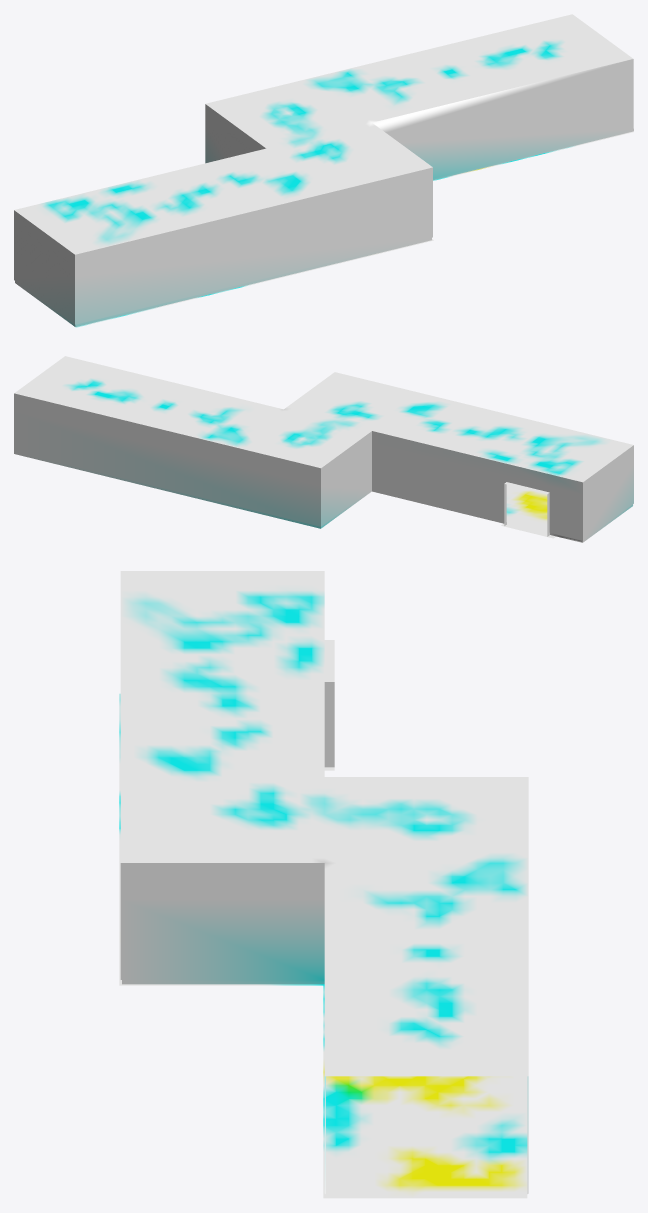
File: sm_sector_03.FBX
3 renders of one model, top to bottom at view 1: azimuth 30°, elevation 25°; view 2: azimuth 150°, elevation 25°; view 3: azimuth 270°, elevation 25°, orthographic. The views are drawn at different scales.
Parts seen in each view (by area): view 1: sector_03; view 2: sector_03; view 3: sector_03.
Part boxes in pixels (x1,y1,x2,y2): sector_03: [14, 14, 633, 327]; sector_03: [14, 356, 633, 542]; sector_03: [119, 571, 528, 1198].
Bounding box in the file's own units: 3607 × 405 × 1234.
